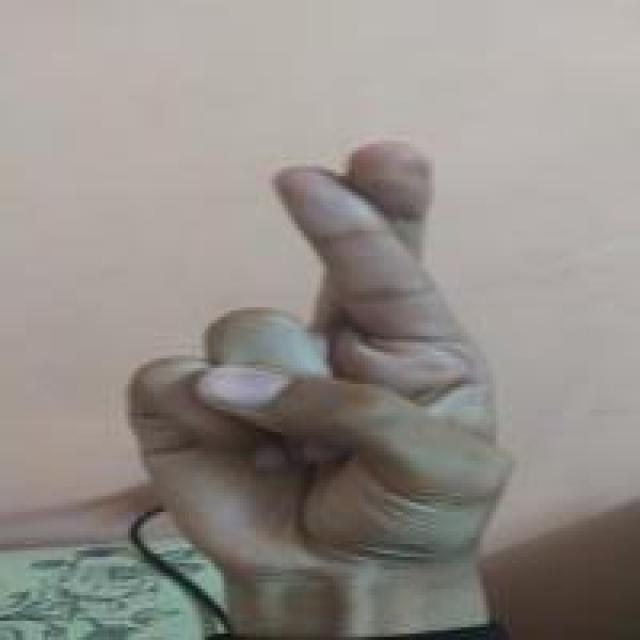R: (120, 131, 520, 573)
